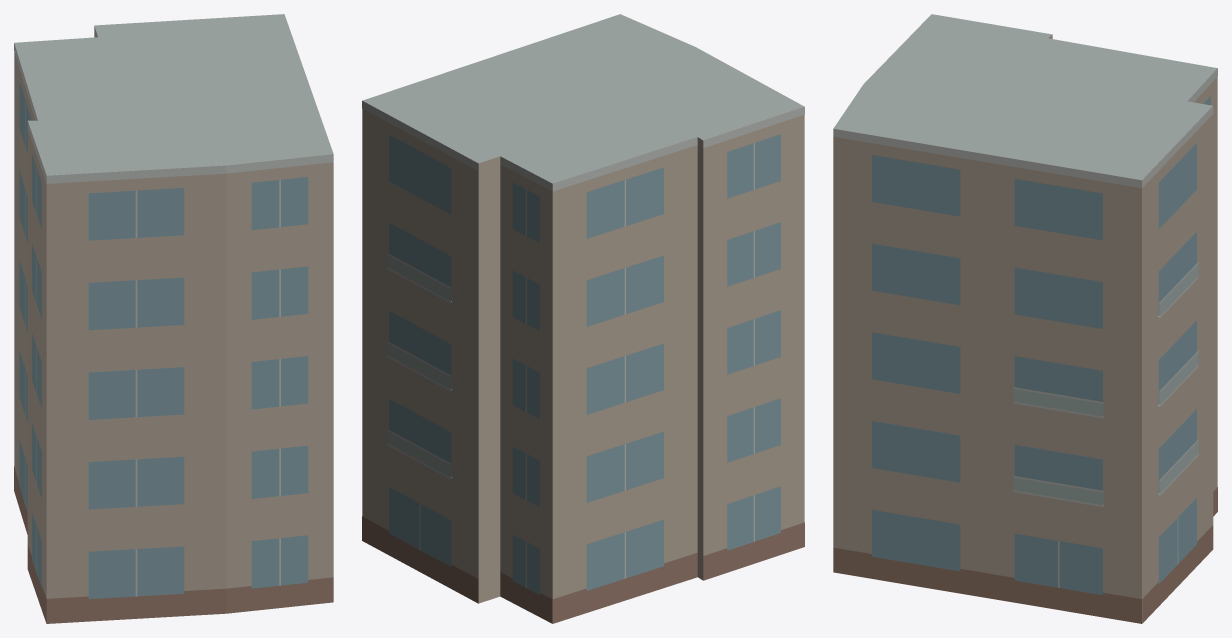
The model's file is survey-upis-32779455.glb.
The picture shows the model from 3 angles, left to right: view 1: azimuth 30°, elevation 25°; view 2: azimuth 150°, elevation 25°; view 3: azimuth 270°, elevation 25°; orthographic projection.
Parts seen in each view (by area): view 1: survey-upis-32779455.tmp; view 2: survey-upis-32779455.tmp; view 3: survey-upis-32779455.tmp.
Boxes of the visible parts, x1=… form: survey-upis-32779455.tmp: x1=14, y1=14, x2=333, y2=623; survey-upis-32779455.tmp: x1=362, y1=14, x2=804, y2=623; survey-upis-32779455.tmp: x1=833, y1=14, x2=1217, y2=623.
Size of the model in its own units: 10.93 by 13.58 by 10.68.
